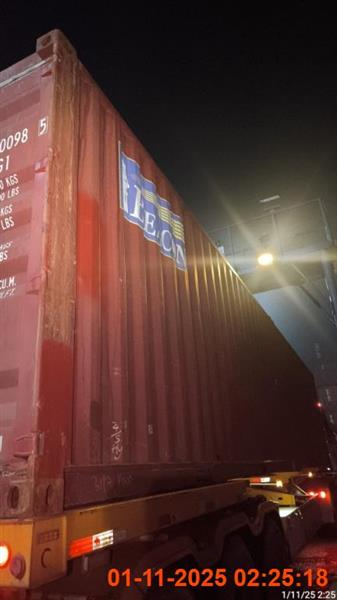broken: (0, 29, 332, 598), (0, 29, 332, 597)
